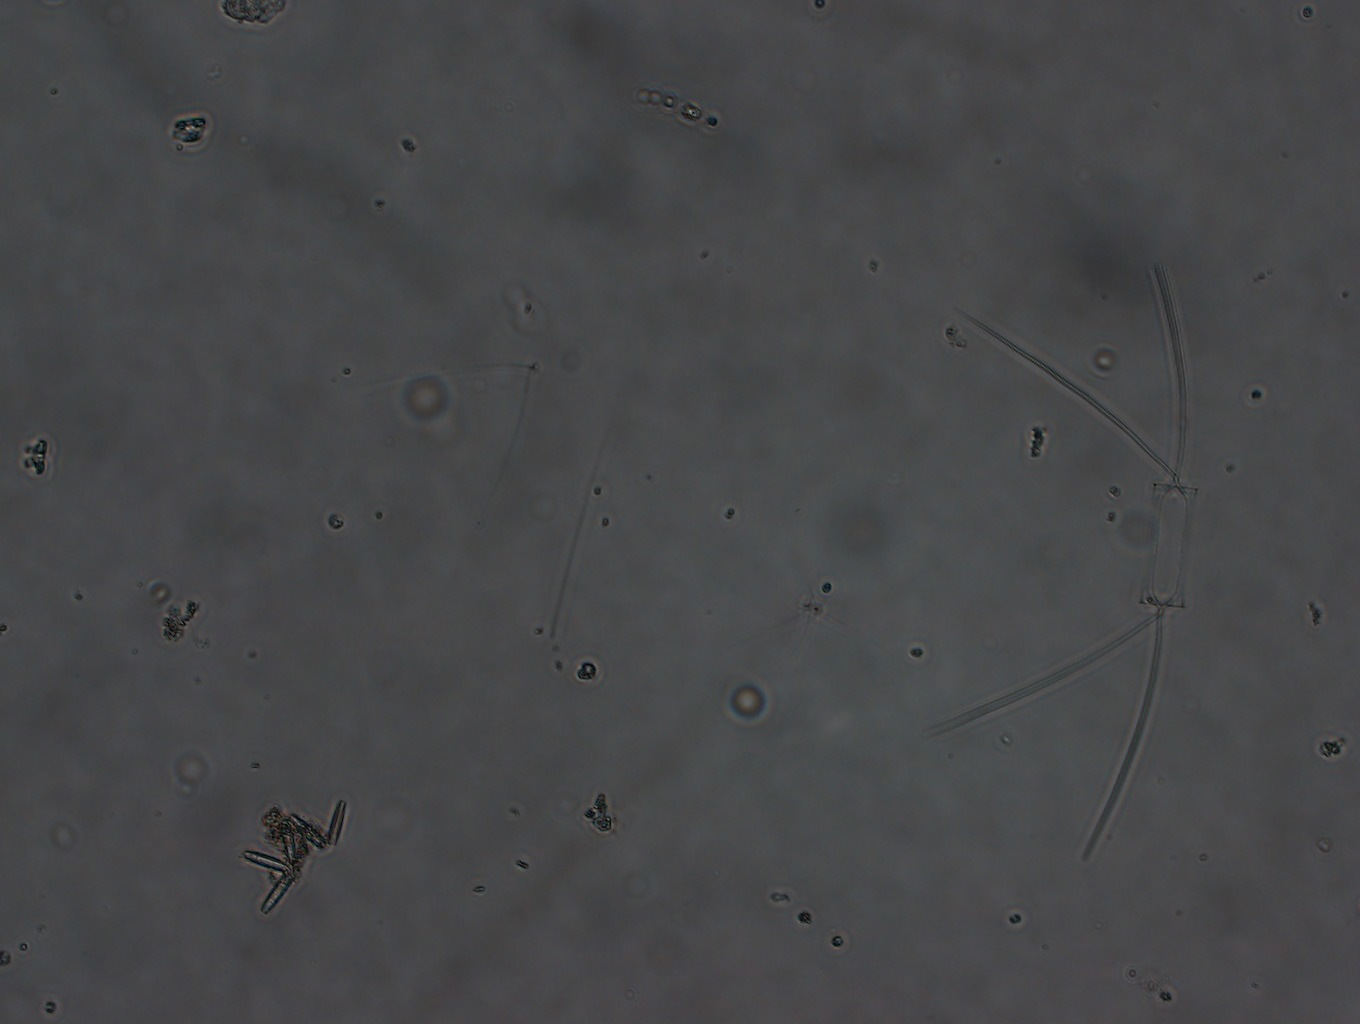chaetoceros: (911, 258, 1203, 868)
thalassionema nitzschioides: (234, 788, 356, 920)
